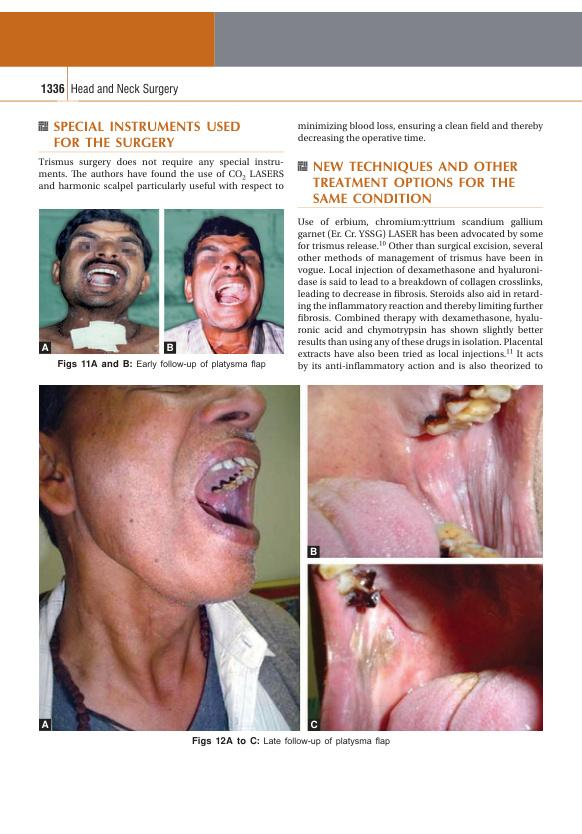caption: (56, 358, 267, 370), (190, 735, 391, 747), (309, 719, 319, 730), (40, 342, 50, 352), (165, 342, 175, 352), (41, 719, 50, 729), (309, 546, 318, 556)
header: (69, 82, 180, 97)
image: (38, 383, 300, 731), (305, 383, 545, 557), (306, 563, 544, 732), (164, 208, 284, 354), (39, 209, 160, 353)
sub-section-heading: (51, 119, 242, 149)
text: (295, 216, 544, 373), (37, 155, 286, 194), (312, 159, 518, 205), (296, 120, 544, 145)
